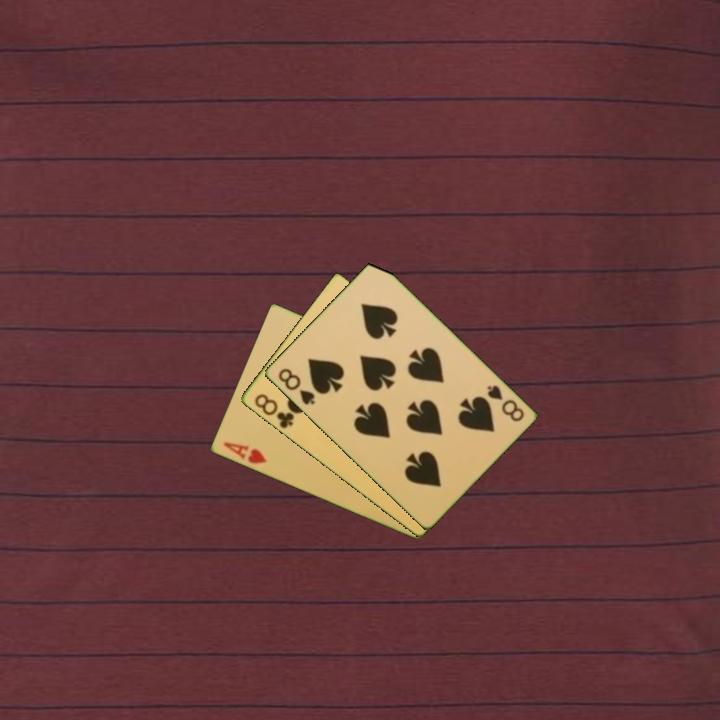8c: (250, 390, 297, 431)
8s: (483, 381, 527, 425), (274, 365, 317, 408)
Ah: (219, 438, 269, 467)
